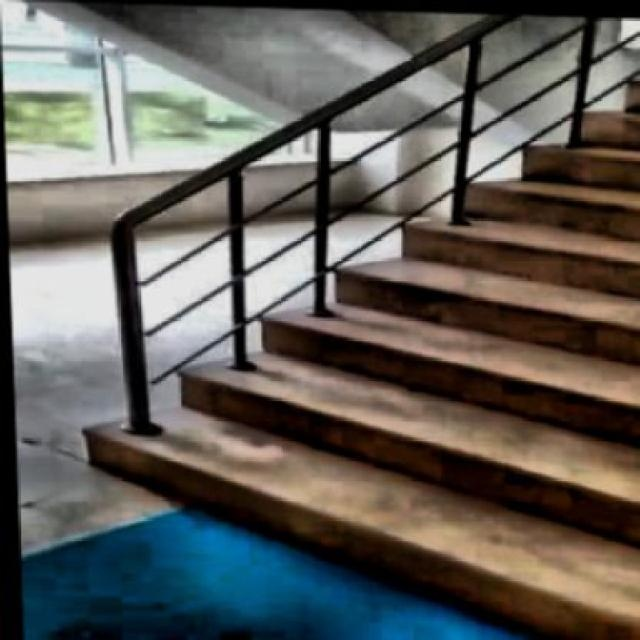stair: (1, 0, 638, 638)
